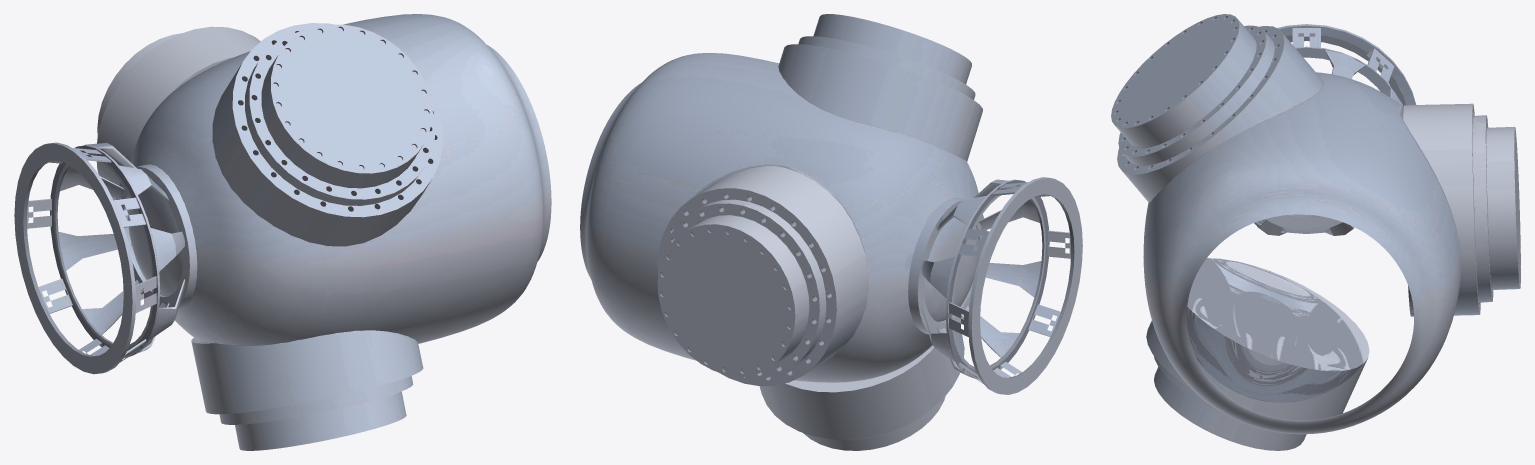
File: toubu.glb
The picture shows the model from 3 angles, left to right: view 1: azimuth 30°, elevation 25°; view 2: azimuth 150°, elevation 25°; view 3: azimuth 270°, elevation 25°; orthographic projection. The views are drawn at different scales.
Bounding box in the file's own units: 11.02 × 10.83 × 9.83.
4 materials, 4 textured.
